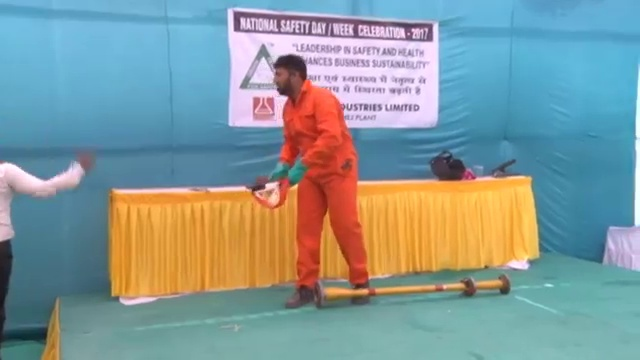helmet_off: (273, 54, 305, 97)
person: (251, 52, 372, 305), (1, 135, 96, 346)
